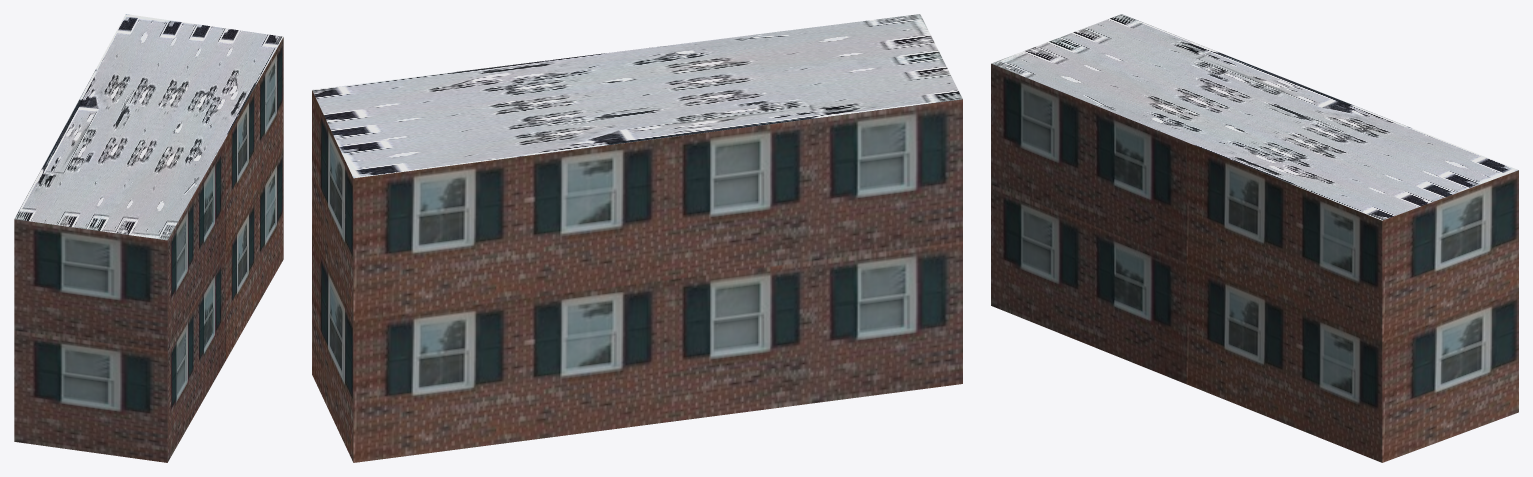
Rendered from ResTex__1472.fbx.
3 renders of one model, left to right at view 1: azimuth 30°, elevation 25°; view 2: azimuth 150°, elevation 25°; view 3: azimuth 270°, elevation 25°, orthographic. The views are drawn at different scales.
Visible parts, largest first — view 1: CityEngineMaterial_14_m, CityEngineMaterial_2_m; view 2: CityEngineMaterial_14_m, CityEngineMaterial_2_m; view 3: CityEngineMaterial_14_m, CityEngineMaterial_2_m.
Part boxes in pixels (left/top/right/bottom): CityEngineMaterial_14_m: left=14, top=37, right=283, bottom=462; CityEngineMaterial_2_m: left=14, top=14, right=283, bottom=240; CityEngineMaterial_14_m: left=312, top=90, right=962, bottom=462; CityEngineMaterial_2_m: left=312, top=14, right=962, bottom=178; CityEngineMaterial_14_m: left=991, top=63, right=1518, bottom=462; CityEngineMaterial_2_m: left=991, top=14, right=1518, bottom=220.
Size of the model in its own units: 10.98 by 6 by 11.85.
2 materials, 2 textured.
